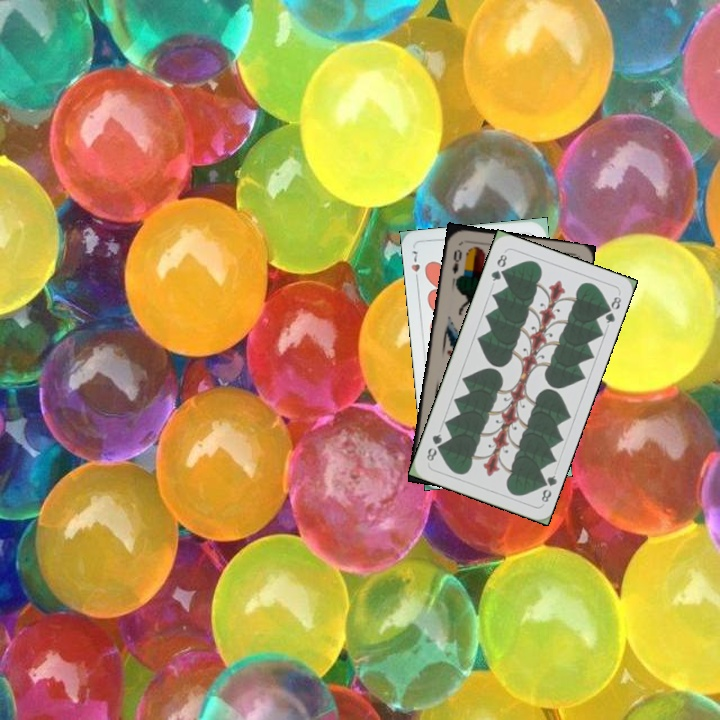EO: (448, 245, 464, 276)
G8: (535, 471, 559, 505), (487, 250, 510, 284)
H7: (407, 247, 423, 285)
